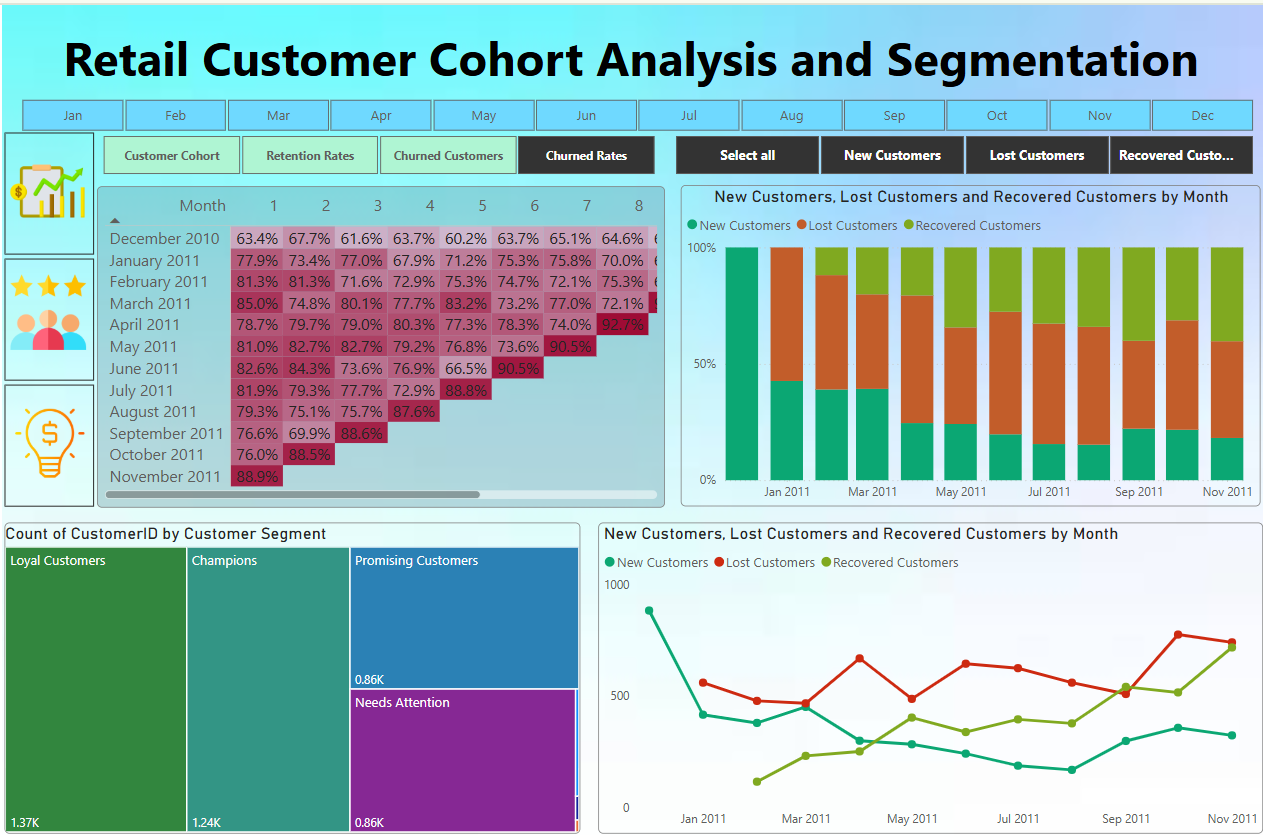

The page's visual inventory and layout, read from the dashboard file:
{"tool":"powerbi","page":{"name":"Customer Insights","canvas":[1290,850],"ordinal":2},"visuals":[{"type":"image","box":[0,0,1280.6,848.8],"z":0},{"type":"pageNavigator","box":[2.2,130.2,91.1,380.4],"z":0,"group":"g1"},{"type":"image","box":[2.9,247,86.6,130.7],"z":1000,"group":"g1"},{"type":"pivotTable","fields":{"Values":["_Measures.Retention Rate"],"Rows":["DimDate.Start of the Month"],"Columns":["FactSales.MonthsSinceFirstPurchase"]},"box":[96.9,183.6,577.1,326],"z":1000},{"type":"image","box":[2,126.1,88.1,127.8],"z":2000,"group":"g1"},{"type":"slicer","fields":{"Values":["Cohort Metrices.Cohort Metrices"]},"box":[82.2,130.7,599.2,42.6],"z":2000},{"type":"shape","box":[0,14.7,1277.7,79.3],"z":3000},{"type":"image","box":[3.1,383.6,89.6,123.4],"z":3000,"group":"g1"},{"type":"slicer","fields":{"Values":["DimDate.Month Name"]},"box":[0,94,1289.4,35.2],"z":4000},{"type":"hundredPercentStackedColumnChart","fields":{"Y":["_Measures.New Customers","_Measures.Lost Customers","_Measures.Recovered Customers"],"Category":["DimDate.Start of the Month"]},"box":[689.2,183,588.9,326],"z":5000},{"type":"slicer","fields":{"Values":["CohortGraphMetrices.CohortGraphMetrices"]},"box":[663.8,130.7,625.6,42.6],"z":6000},{"type":"lineChart","fields":{"Y":["_Measures.New Customers","_Measures.Lost Customers","_Measures.Recovered Customers"],"Category":["DimDate.Start of the Month"]},"box":[605,525.7,675.5,315.7],"z":7000},{"type":"treemap","title":"RFM Segmentation of Customers","fields":{"Group":["RFM Segment.Customer Segment"],"Values":["CountNonNull(RFM TABLE.CustomerID)"]},"box":[2.9,525.7,584.5,315.7],"z":8000},{"type":"group","id":"g1","title":"Group 1","box":[2,126.1,91.2,384.4],"z":9000}]}

Visuals, with their boxes in screenshot pixels (x1, y1, x2, y2), scaled from the page's 1290x850 canvas onto the 1263x835 screenshot:
image: Rect(0, 0, 1254, 834)
pageNavigator: Rect(2, 128, 91, 502)
image: Rect(3, 243, 88, 371)
pivotTable - _Measures.Retention Rate x DimDate.Start of the Month: Rect(95, 180, 660, 501)
image: Rect(2, 124, 88, 249)
slicer - Cohort Metrices.Cohort Metrices: Rect(80, 128, 667, 170)
shape: Rect(0, 14, 1251, 92)
image: Rect(3, 377, 91, 498)
slicer - DimDate.Month Name: Rect(0, 92, 1262, 127)
hundredPercentStackedColumnChart - _Measures.New Customers x _Measures.Lost Customers: Rect(675, 180, 1251, 500)
slicer - CohortGraphMetrices.CohortGraphMetrices: Rect(650, 128, 1262, 170)
lineChart - _Measures.New Customers x _Measures.Lost Customers: Rect(592, 516, 1254, 827)
"RFM Segmentation of Customers" treemap: Rect(3, 516, 575, 827)
"Group 1" group: Rect(2, 124, 91, 501)
